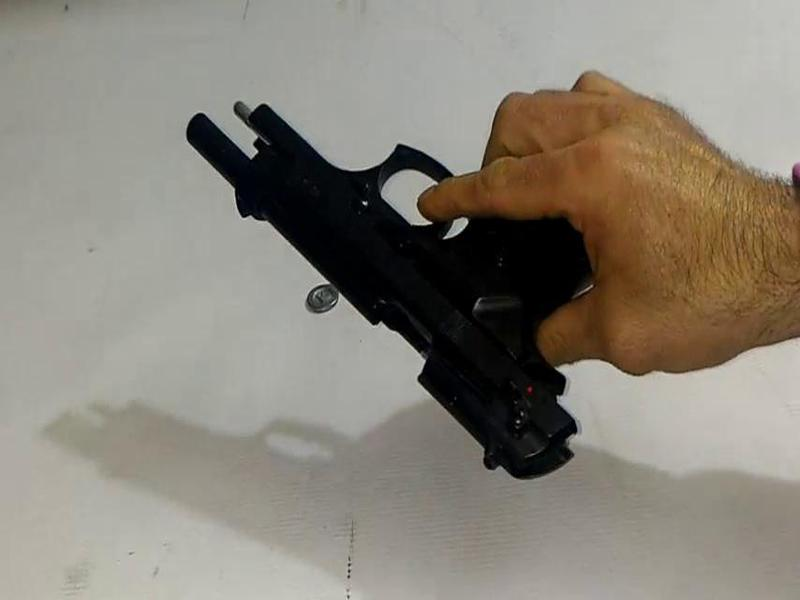Pistola: (182, 61, 632, 479)
